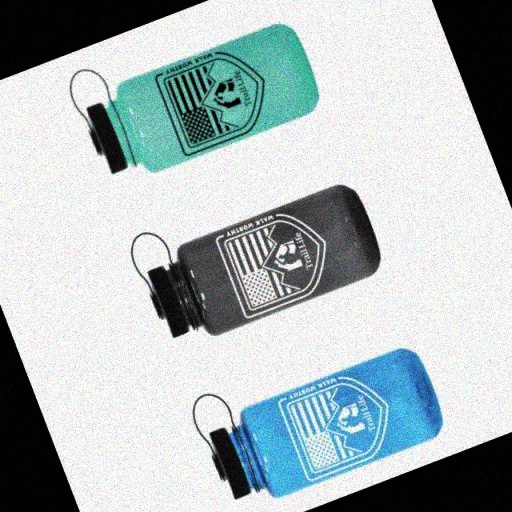bottle: (123, 151, 393, 357), (184, 311, 454, 512), (60, 0, 329, 194)
